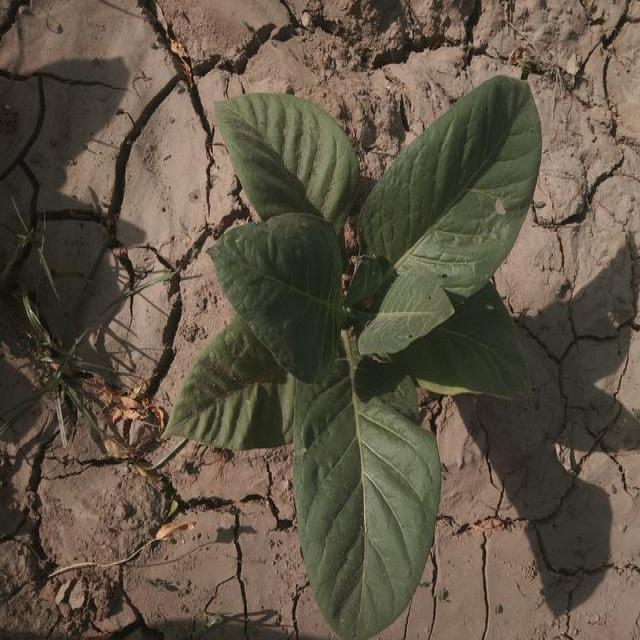crop: (173, 61, 542, 640)
